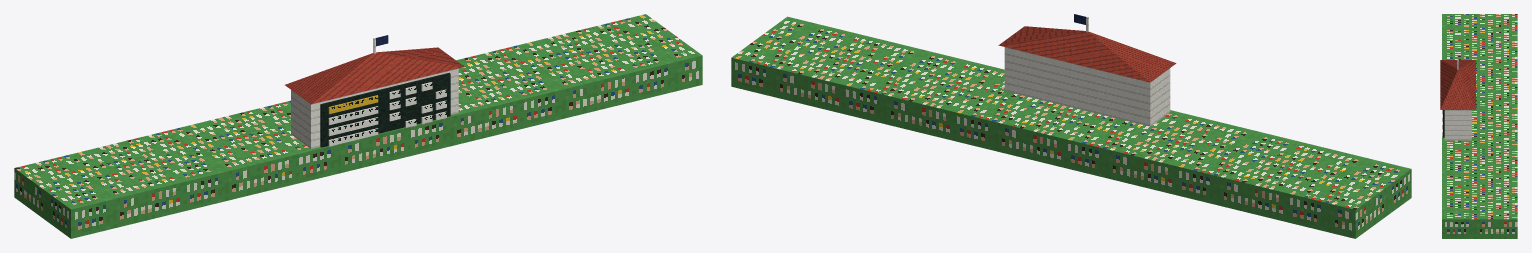
File: perth.glb
3 views of the same model, side by side, from view 1: azimuth 30°, elevation 25°; view 2: azimuth 150°, elevation 25°; view 3: azimuth 270°, elevation 25° (orthographic). The views are drawn at different scales.
Parts seen in each view (by area): view 1: waca_scoreboard; view 2: waca_scoreboard; view 3: waca_scoreboard.
Part boxes in pixels (x1,y1,x2,y2): waca_scoreboard: (14, 14, 702, 238); waca_scoreboard: (731, 14, 1411, 238); waca_scoreboard: (1440, 14, 1517, 238).
Size of the model in its own units: 90 by 15.6 by 14.29.
Materials: 7 (7 with a texture image).
